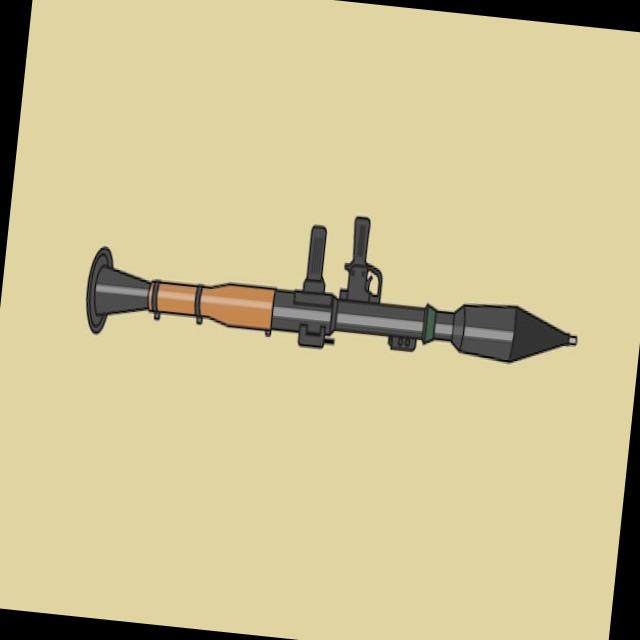Weapon: (72, 184, 598, 406)
